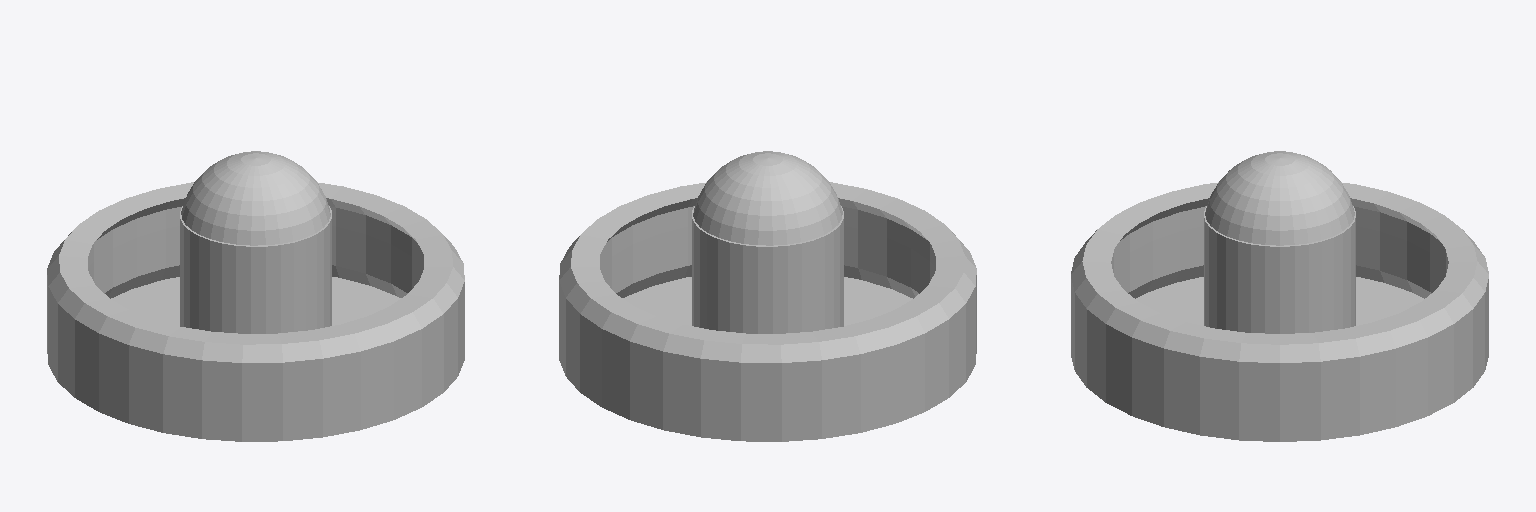
The model's file is paddle.obj.
3 views of the same model, side by side, from view 1: azimuth 30°, elevation 25°; view 2: azimuth 150°, elevation 25°; view 3: azimuth 270°, elevation 25° (orthographic).
Visible parts, largest first — view 1: Mesh_Cylinder; view 2: Mesh_Cylinder; view 3: Mesh_Cylinder.
Boxes of the visible parts, x1,y1,x2,y2 form: Mesh_Cylinder: [47, 151, 464, 441]; Mesh_Cylinder: [559, 151, 976, 441]; Mesh_Cylinder: [1071, 151, 1488, 441].
Size of the model in its own units: 3.43 by 1.76 by 3.43.